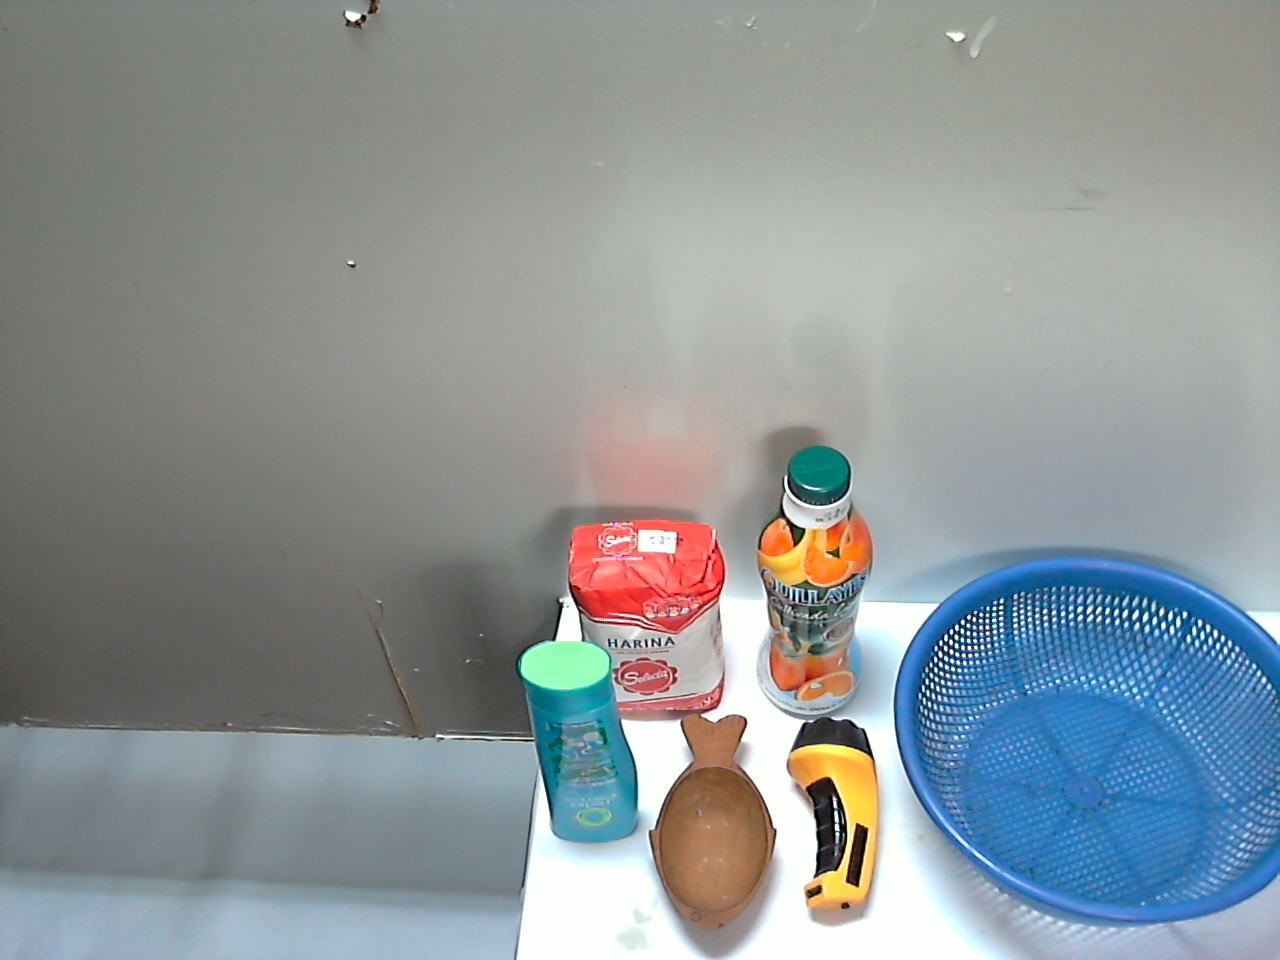aceite: (908, 506, 1071, 813)
aerosol: (589, 511, 705, 764)
borrador: (842, 801, 1086, 923)
pepino: (454, 641, 598, 960)
platano: (555, 782, 829, 960)
yogurt: (761, 497, 899, 786)
